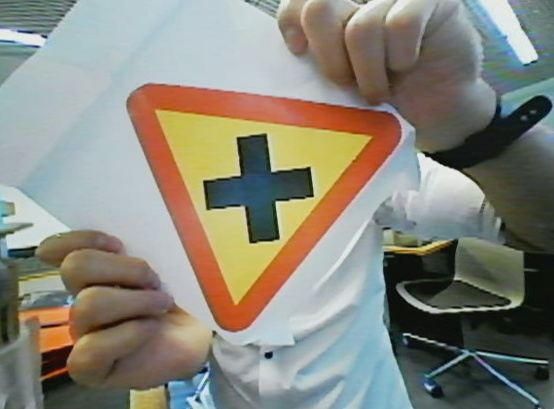junction: (109, 69, 432, 346)
